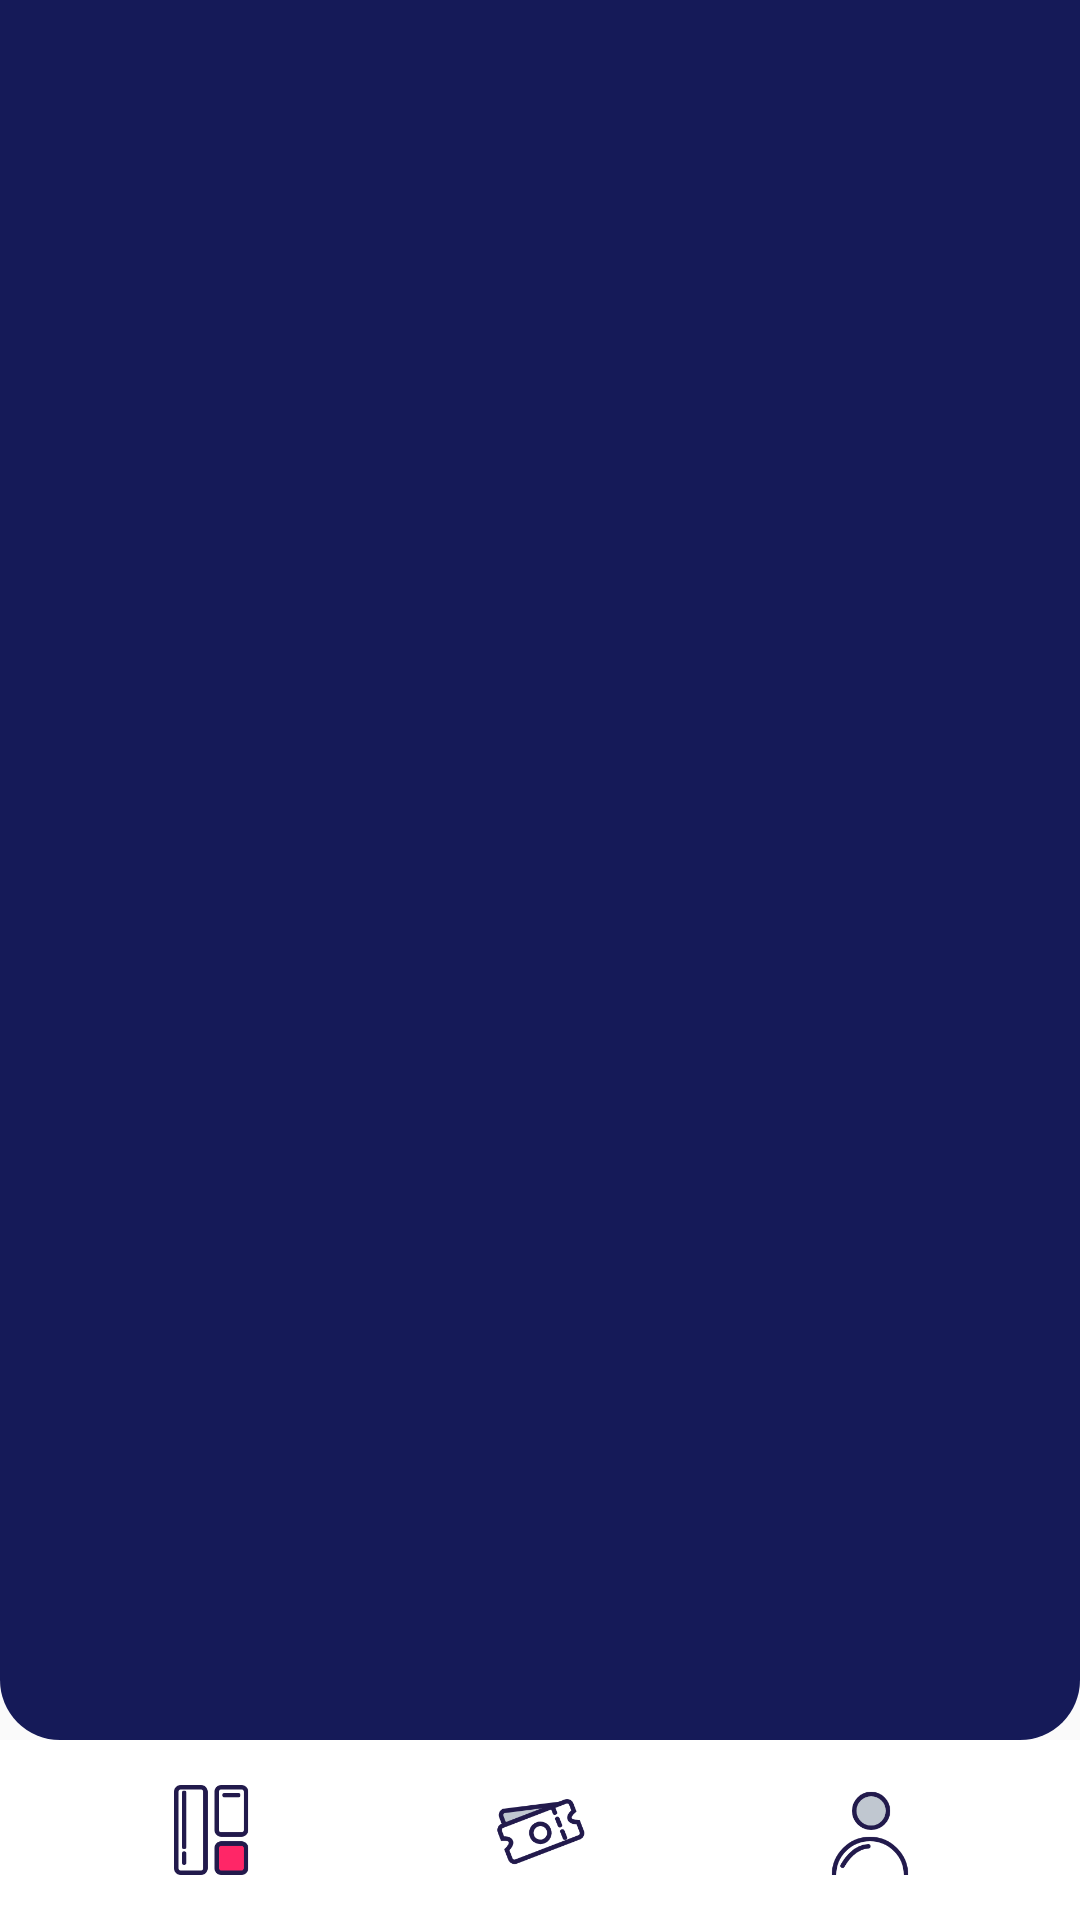

Where icons sit on this 1080*1920 app screen, as (x1, y1, x2, y2):
home: (174, 1785, 248, 1875)
profile: (832, 1792, 908, 1875)
